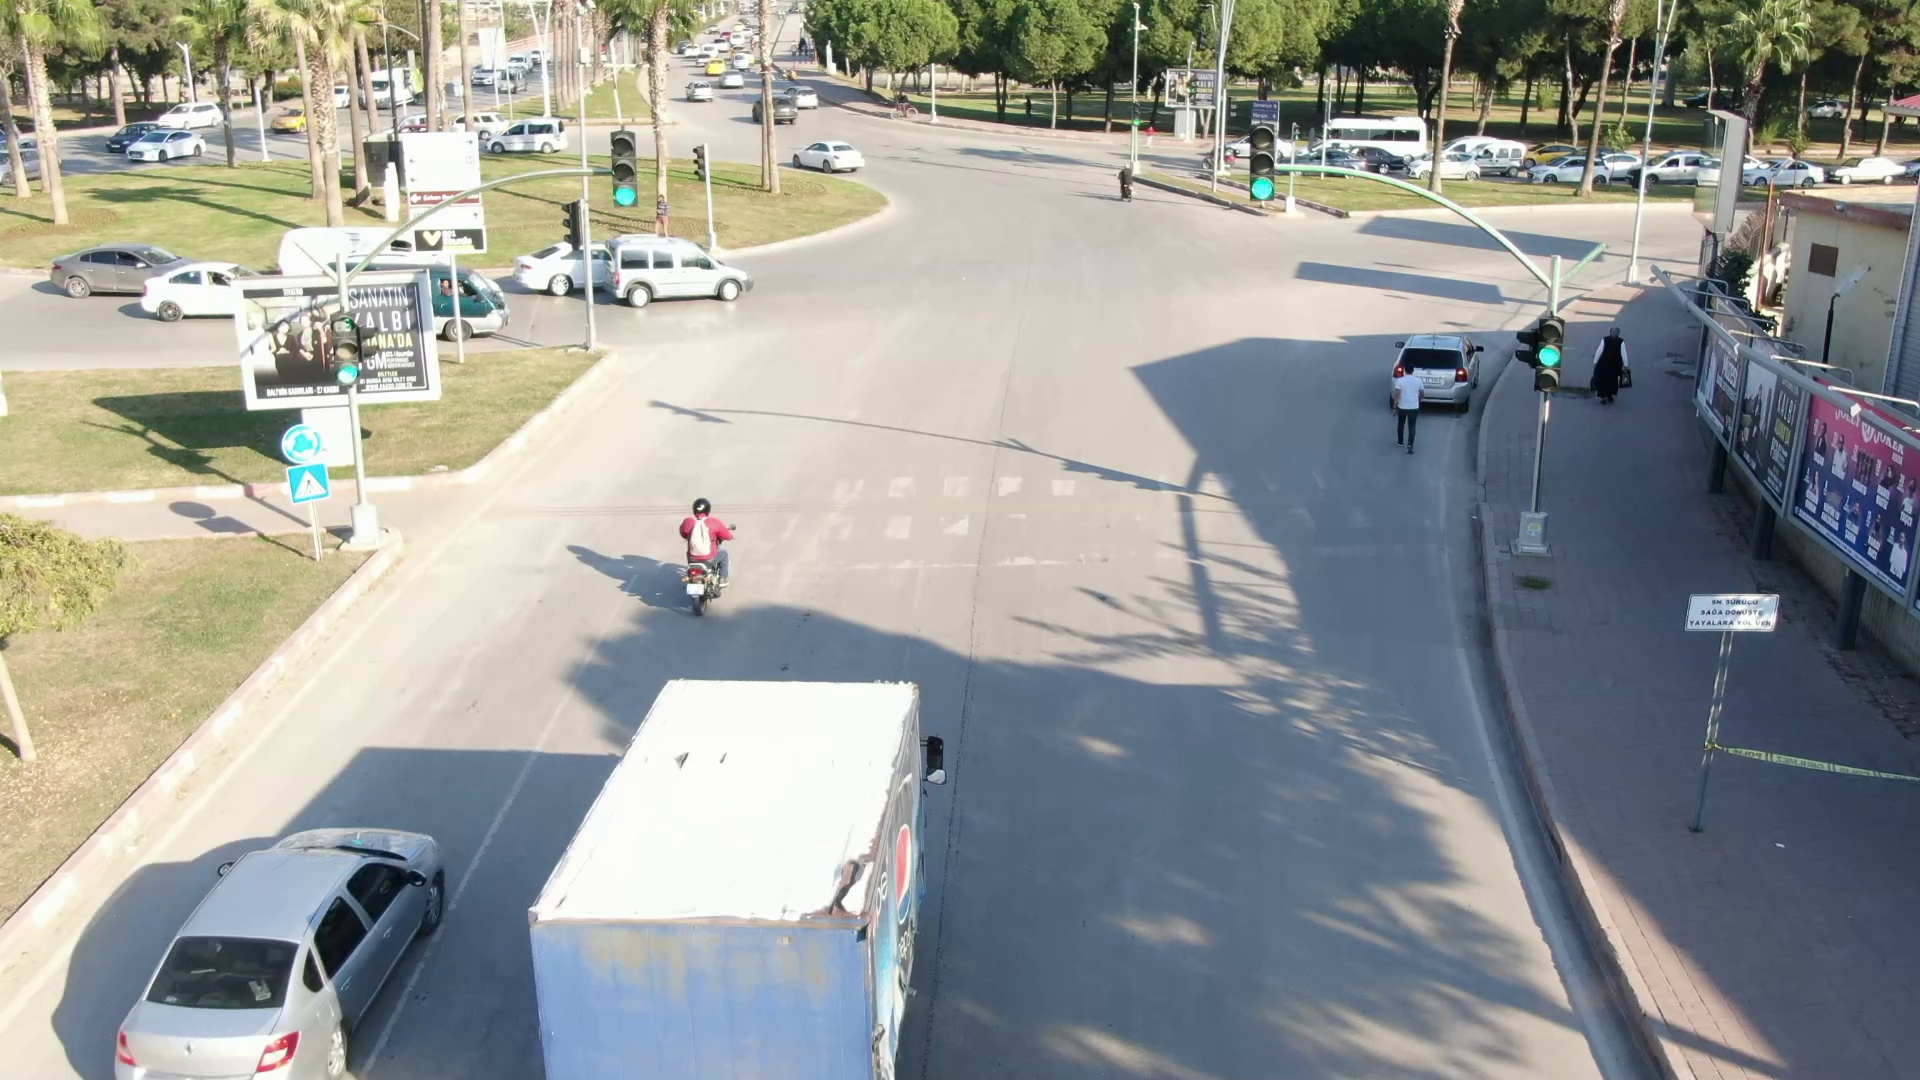car: (80, 763, 485, 1080), (597, 223, 765, 318), (38, 227, 188, 325), (784, 130, 874, 182), (119, 128, 220, 165), (484, 117, 575, 156), (681, 77, 718, 105)
person: (669, 482, 754, 596), (1387, 357, 1429, 459), (1587, 319, 1634, 408)
